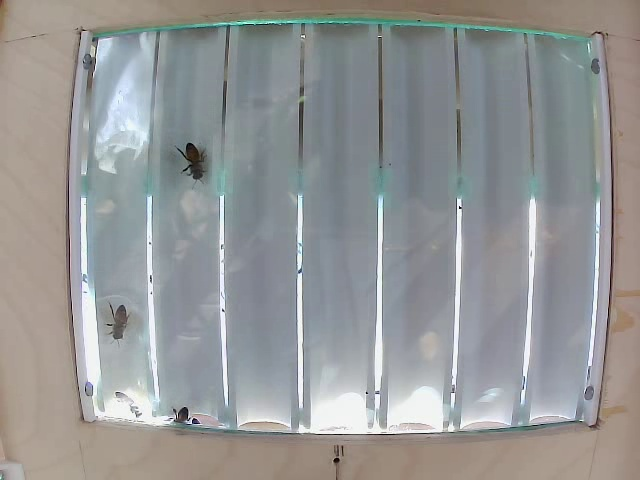bee: (172, 141, 216, 195), (105, 297, 138, 352)
